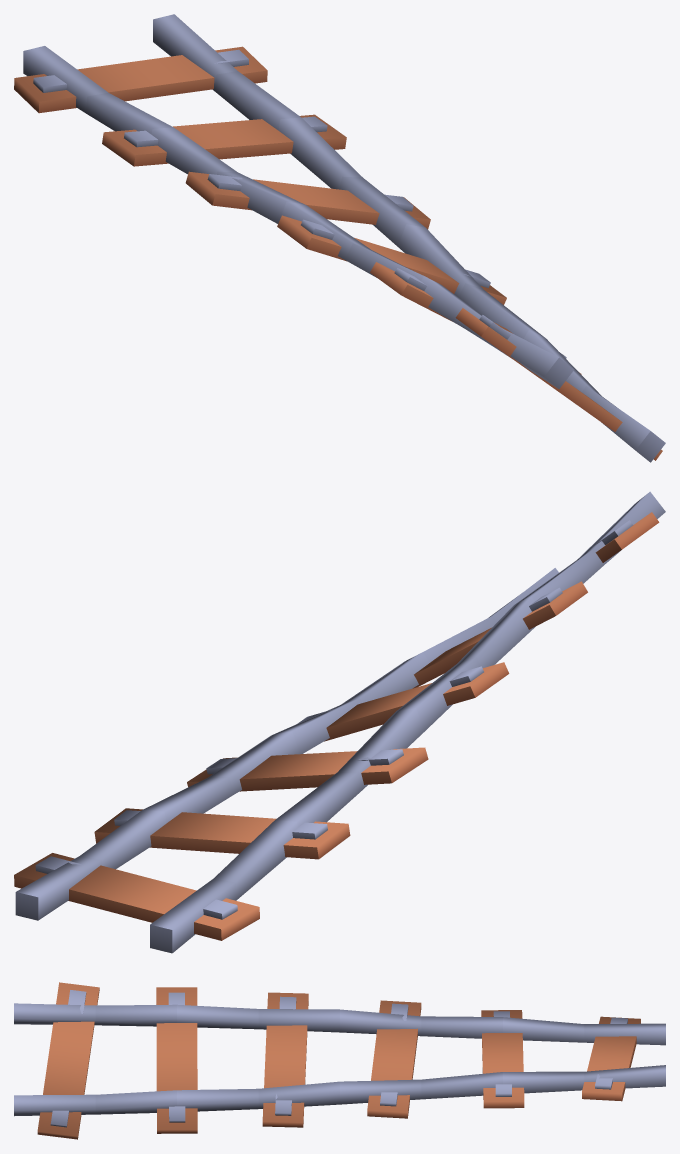
Rendered from railroad-damaged-straight-skew-left.glb.
The picture shows the model from 3 angles, top to bottom: view 1: azimuth 30°, elevation 25°; view 2: azimuth 150°, elevation 25°; view 3: azimuth 270°, elevation 25°; orthographic projection. The views are drawn at different scales.
Parts seen in each view (by area): view 1: railroad-damaged-straight-skew-left; view 2: railroad-damaged-straight-skew-left; view 3: railroad-damaged-straight-skew-left.
Boxes of the visible parts, x1,y1,x2,y2 form: railroad-damaged-straight-skew-left: (14, 14, 665, 462); railroad-damaged-straight-skew-left: (14, 491, 665, 953); railroad-damaged-straight-skew-left: (14, 982, 665, 1139).
Size of the model in its own units: 1.02 by 0.7269 by 4.
